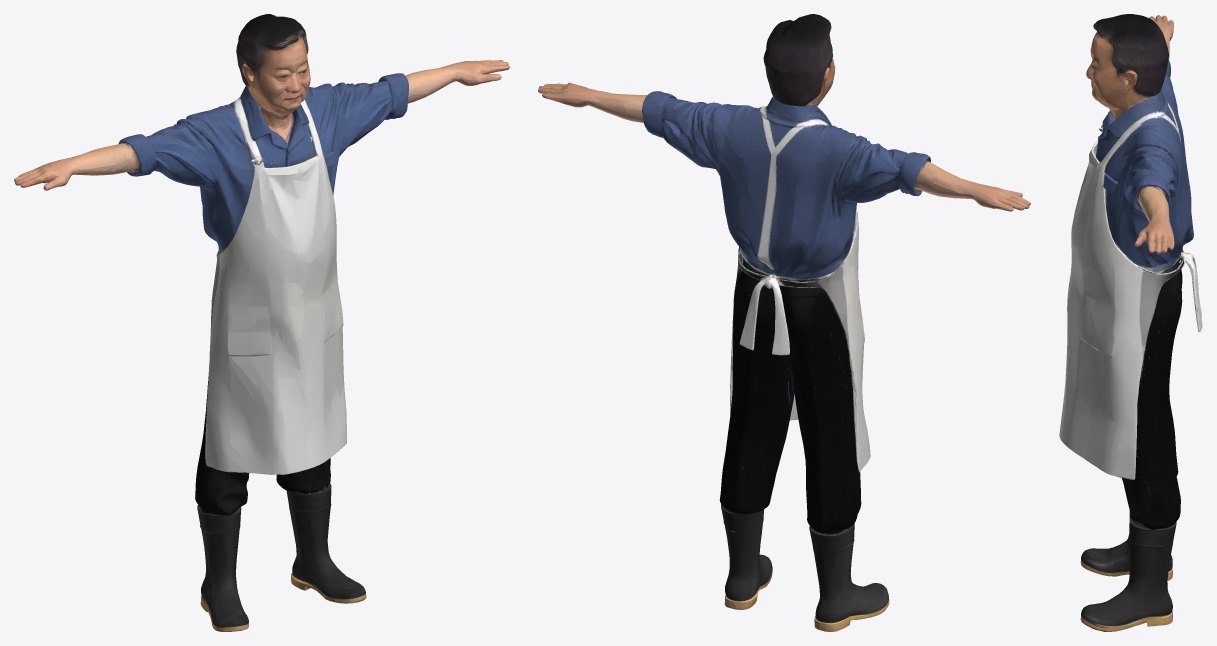
File: ped_vendor.glb
The picture shows the model from 3 angles, left to right: view 1: azimuth 30°, elevation 25°; view 2: azimuth 150°, elevation 25°; view 3: azimuth 270°, elevation 25°; orthographic projection.
Parts seen in each view (by area): view 1: Mesh_0; view 2: Mesh_0; view 3: Mesh_0.
Part boxes in pixels (<box>): Mesh_0: <box>14,14,509,631</box>; Mesh_0: <box>538,14,1030,631</box>; Mesh_0: <box>1059,14,1202,631</box>.
Size of the model in its own units: 1.67 by 1.9 by 0.4258.
1 material, 1 textured.
